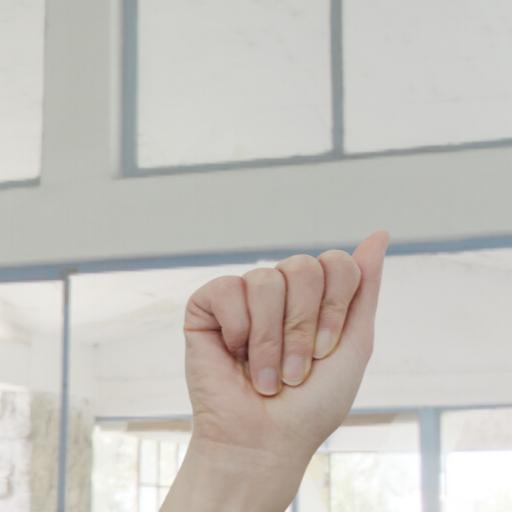A: (147, 218, 408, 491)
